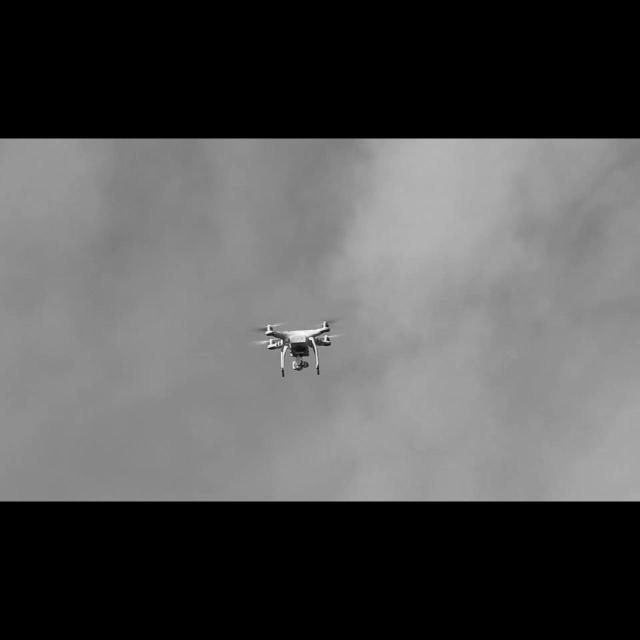Drons: (248, 315, 346, 377)
